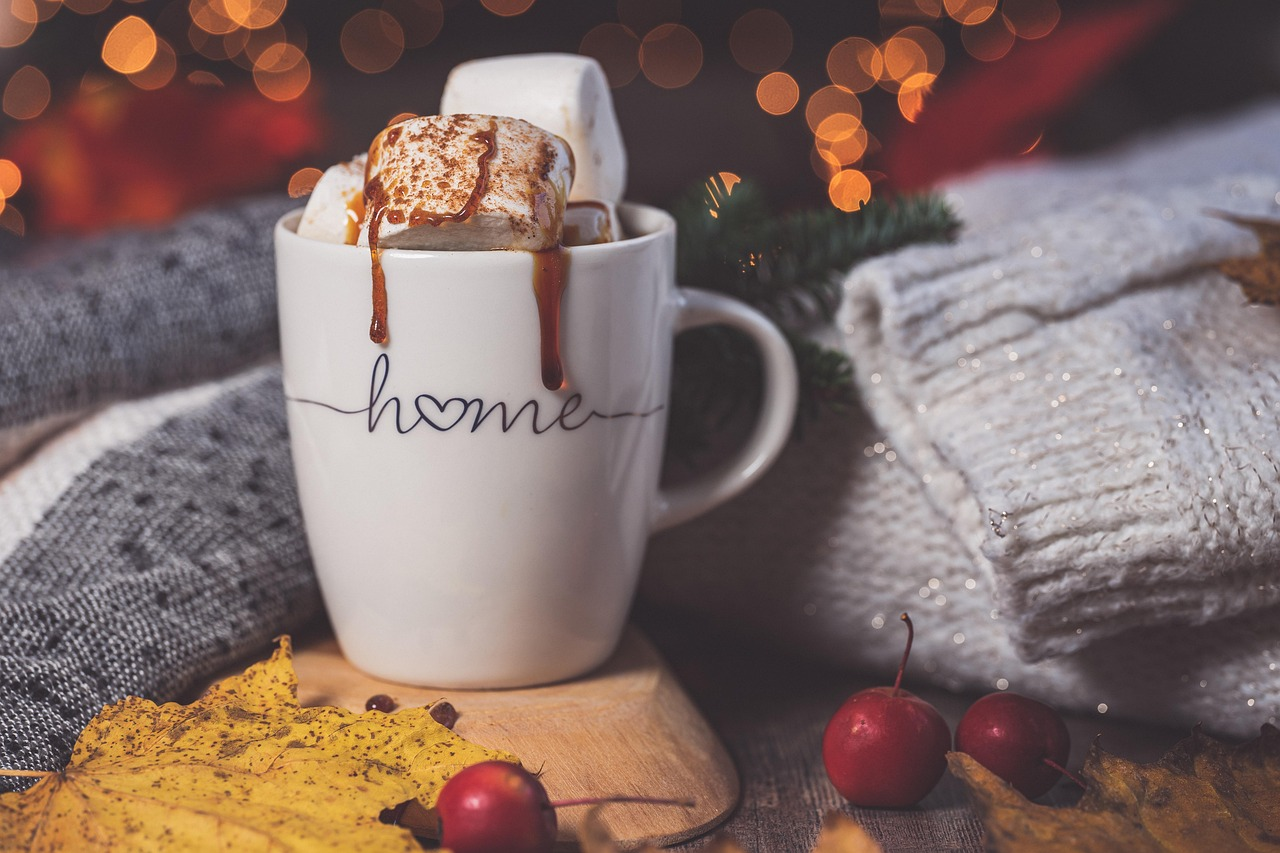mug: (232, 189, 833, 755)
